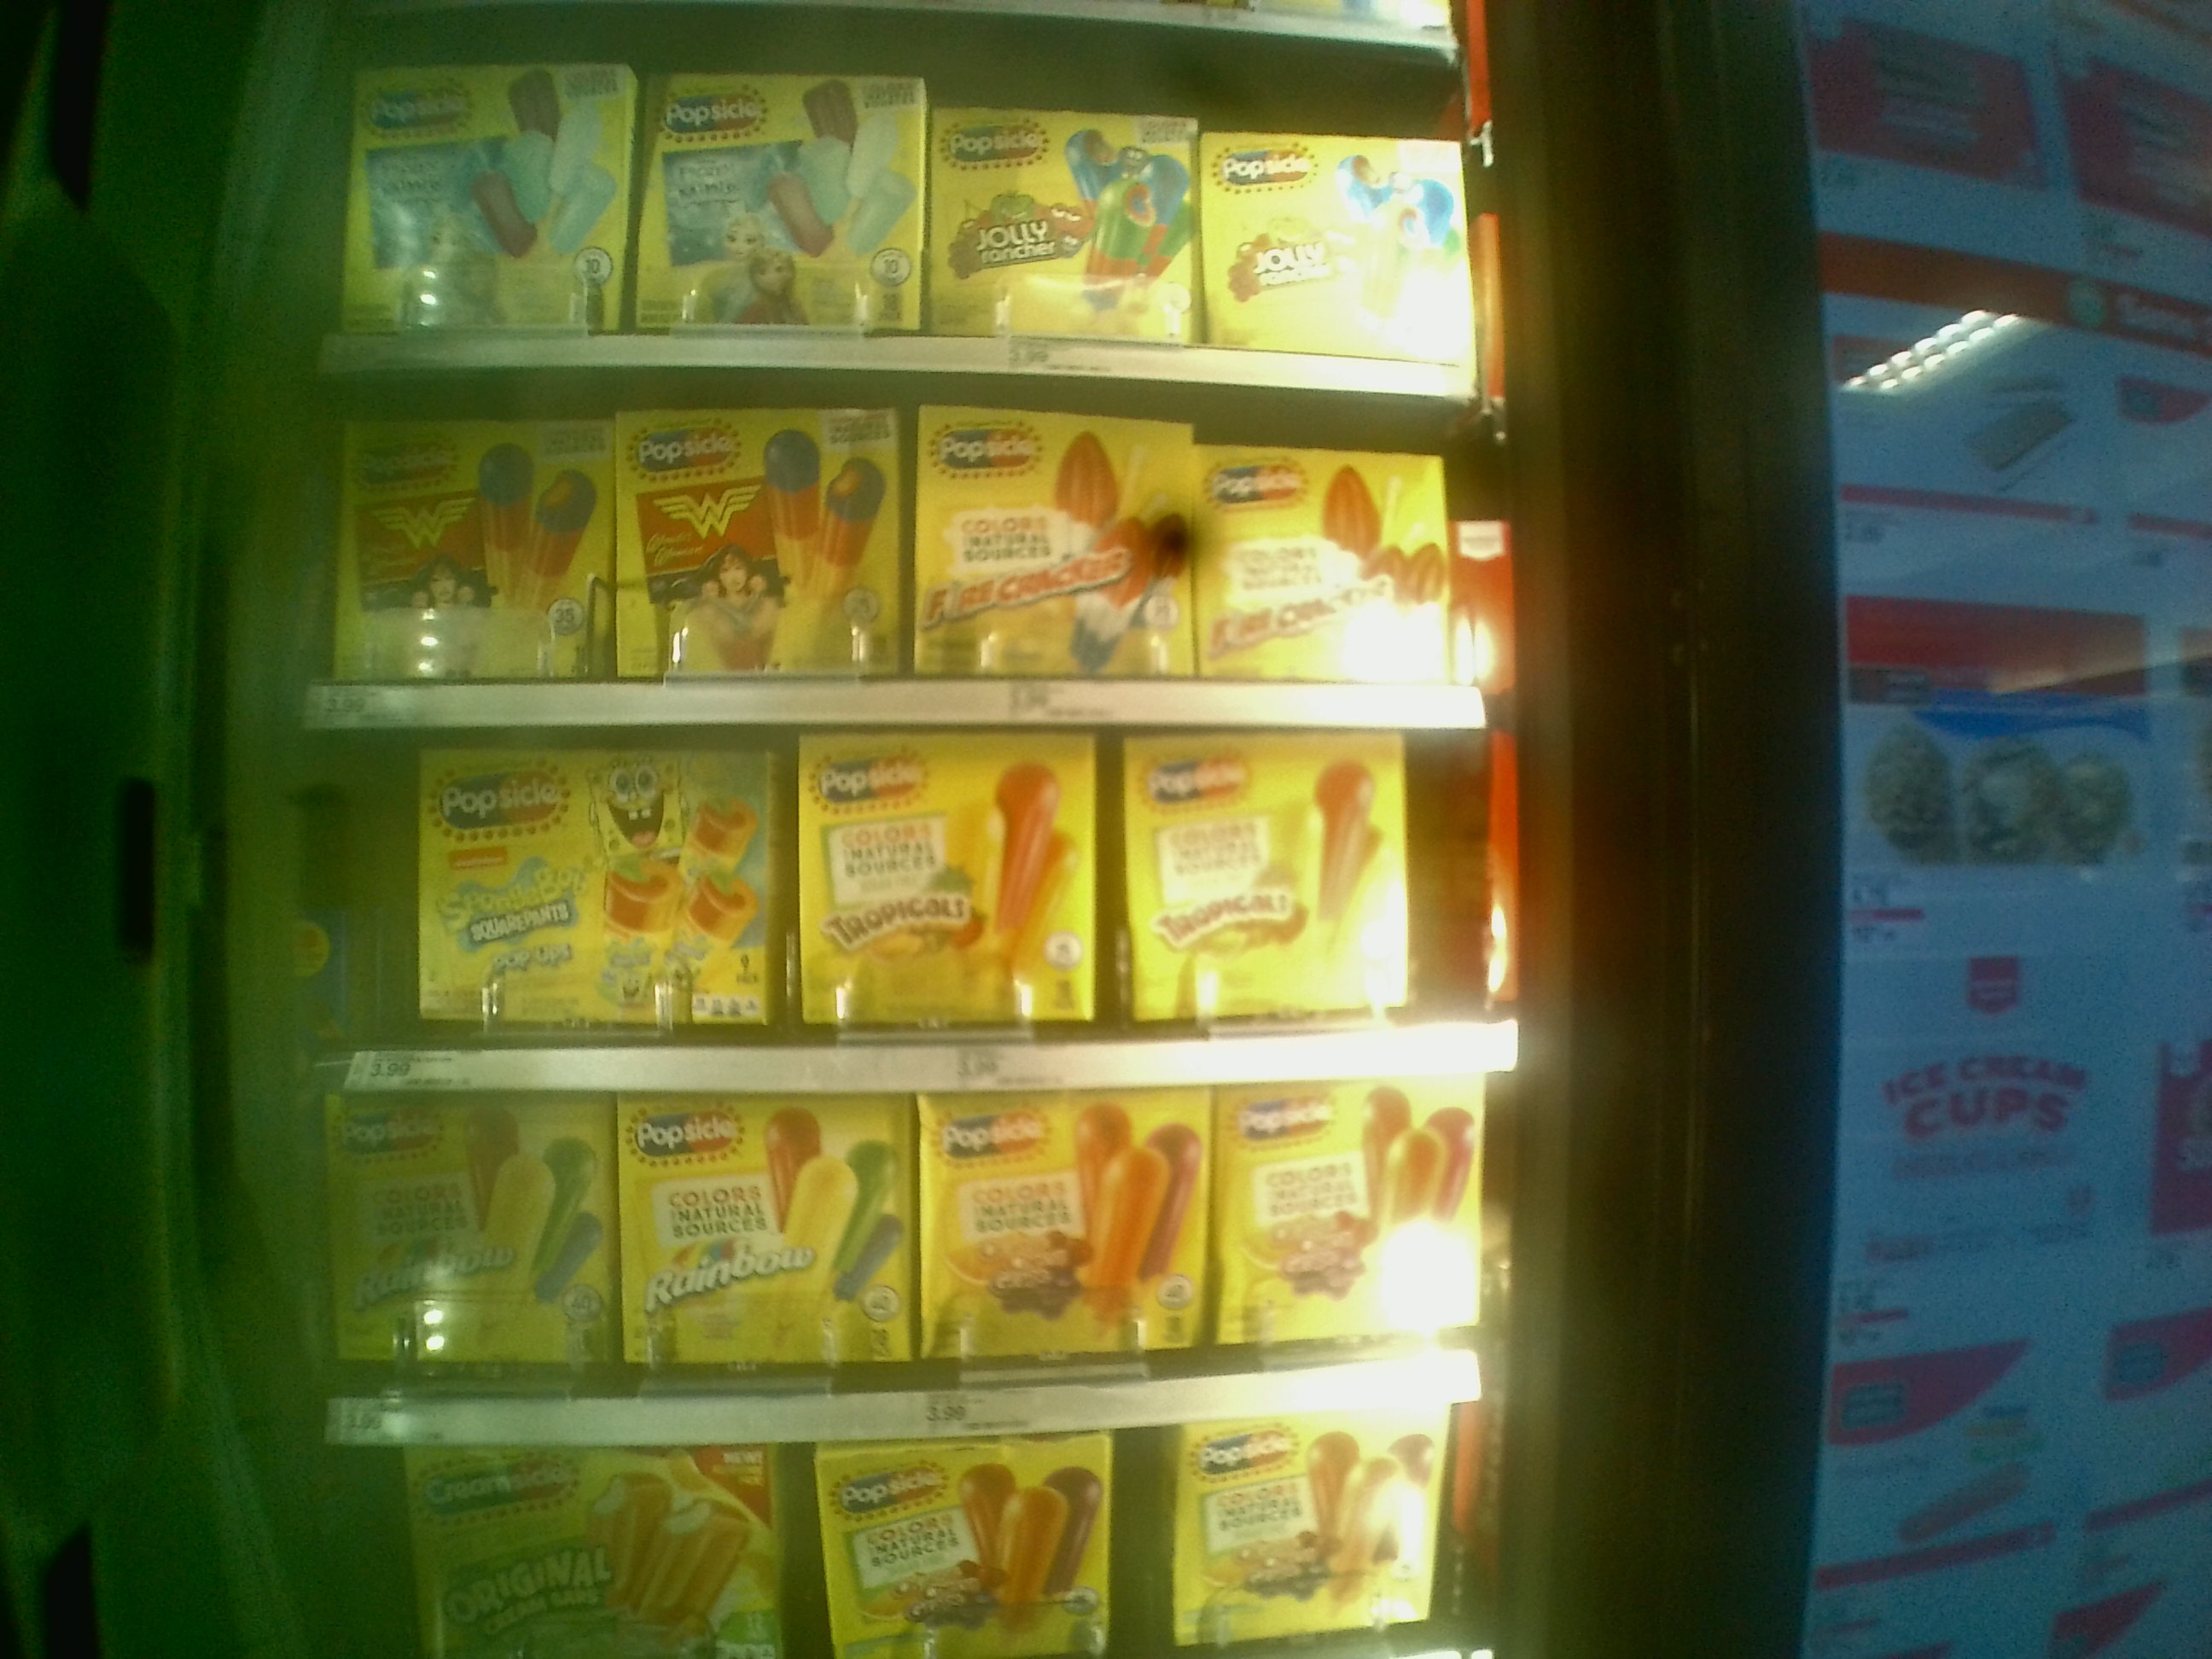frozen-food-shelf: (294, 1087, 1543, 1450), (296, 737, 1548, 1087), (298, 387, 1533, 734)
